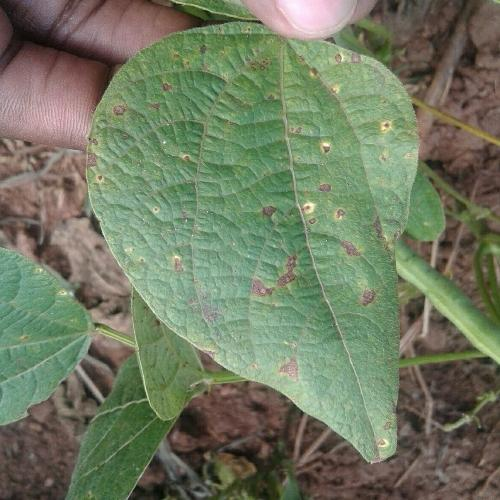hawar: (80, 37, 209, 176), (158, 246, 226, 329), (254, 166, 338, 222), (248, 243, 310, 307), (234, 47, 285, 116), (336, 216, 397, 264), (279, 332, 325, 379), (352, 277, 389, 312)
mozaik: (101, 52, 428, 217)
